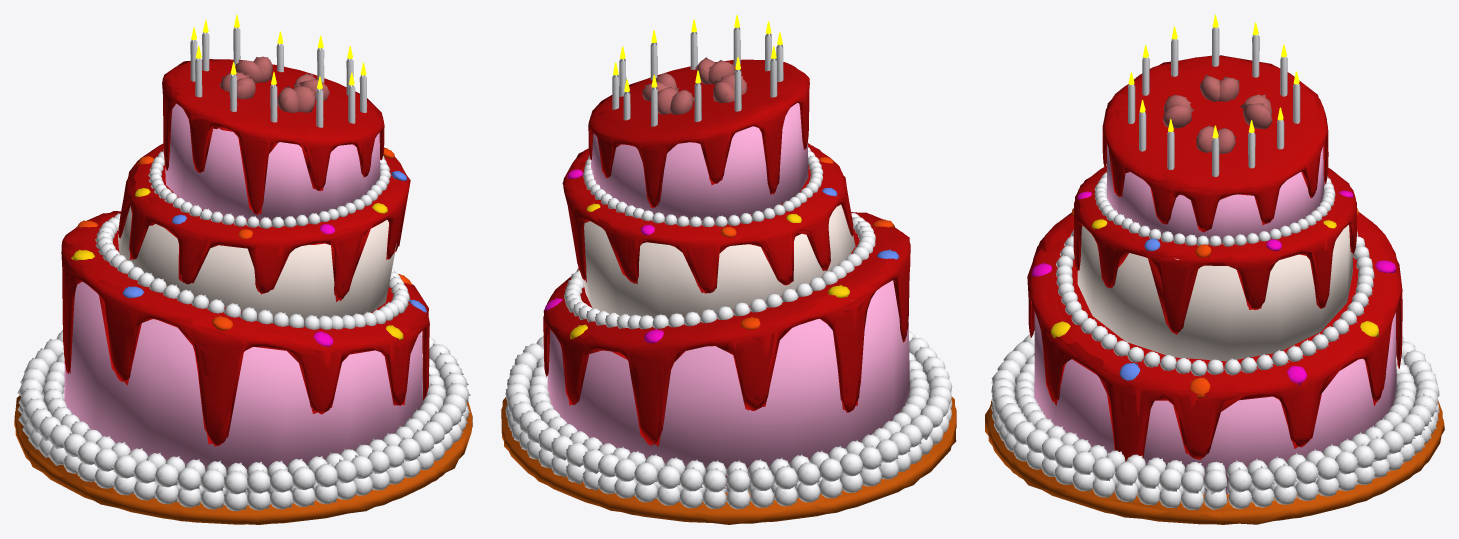
File: cake_LODs.fbx
3 views of the same model, side by side, from view 1: azimuth 30°, elevation 25°; view 2: azimuth 150°, elevation 25°; view 3: azimuth 270°, elevation 25° (orthographic).
Visible parts, largest first — view 1: first, Topping1_002, third, second, Topping1, Topping1_001, Topping1_002.001, second.001, Topping1_002.002, Topping1.001, Topping1_001.001, base.002 (+5 smaller); view 2: first, Topping1_002, third, second, Topping1, Topping1_001, second.001, Topping1_002.001, base.002, Topping1_001.001, Topping1.001, Topping1_002.002 (+4 smaller); view 3: second, Topping1_002, first, Topping1, Topping1_001, second.001, Topping1_002.001, third, Topping1.001, base.002, Topping1_002.002, Topping1_001.001 (+5 smaller).
Boxes of the visible parts, x1,y1,x2,y2 form: first: (64, 281, 422, 479); Topping1_002: (61, 213, 429, 446); third: (165, 103, 380, 220); second: (127, 168, 403, 319); Topping1: (162, 59, 384, 214); Topping1_001: (118, 144, 409, 298); Topping1_002.001: (62, 212, 429, 446); second.001: (118, 206, 380, 316); Topping1_002.002: (62, 211, 428, 444); Topping1.001: (162, 59, 384, 215); Topping1_001.001: (118, 144, 409, 301); base.002: (15, 402, 472, 524); first: (547, 280, 909, 492); Topping1_002: (543, 212, 910, 444); third: (591, 103, 808, 220); second: (584, 204, 855, 319); Topping1: (588, 59, 809, 207); Topping1_001: (563, 143, 853, 293); second.001: (583, 221, 833, 318); Topping1_002.001: (543, 212, 909, 445); base.002: (501, 399, 956, 522); Topping1_001.001: (563, 143, 853, 293); Topping1.001: (588, 60, 809, 208); Topping1_002.002: (543, 212, 910, 446); second: (1080, 225, 1352, 361); Topping1_002: (1028, 212, 1402, 461); first: (1034, 311, 1396, 493); Topping1: (1102, 55, 1328, 229); Topping1_001: (1074, 166, 1356, 333); second.001: (1077, 226, 1342, 360); Topping1_002.001: (1028, 213, 1402, 459); third: (1107, 144, 1323, 242); Topping1.001: (1102, 56, 1328, 228); base.002: (988, 401, 1442, 524); Topping1_002.002: (1027, 212, 1402, 457); Topping1_001.001: (1073, 166, 1356, 334).
Bounding box in the file's own units: 201 × 191 × 202.
